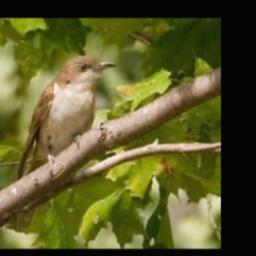Cuckoo: (5, 50, 118, 234)
